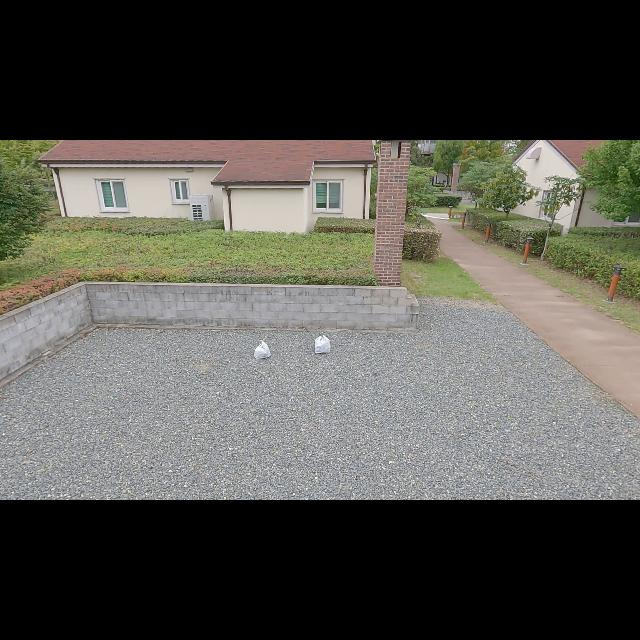trash: (250, 338, 272, 362), (312, 334, 333, 356)
